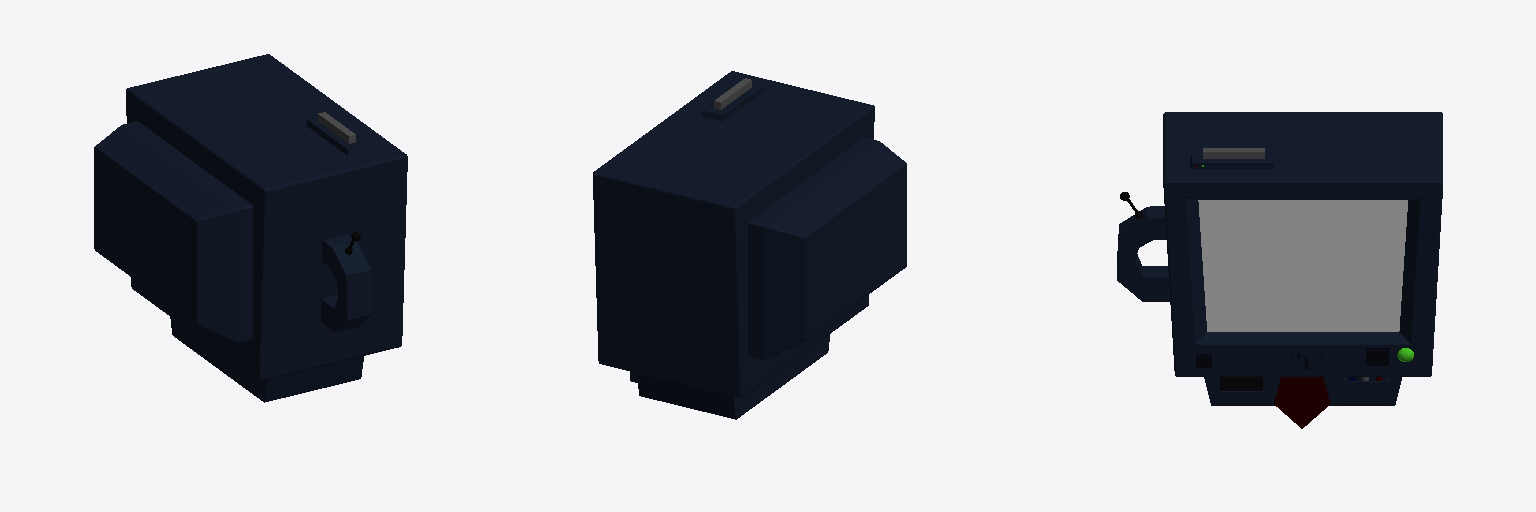
The model's file is assistant_bot.obj.
3 renders of one model, left to right at view 1: azimuth 30°, elevation 25°; view 2: azimuth 150°, elevation 25°; view 3: azimuth 270°, elevation 25°, orthographic.
Visible parts, largest first — view 1: Cube_Cube.001, Cube.009_Cube.011, Cube.003_Cube.004, Cube.001_Cube.002, Cube.002_Cube.003; view 2: Cube_Cube.001, Cube.009_Cube.011, Cube.003_Cube.004, Cube.002_Cube.003; view 3: Cube_Cube.001, Cube.001_Cube.002, Cube.008_Cube.010, Cube.003_Cube.004, Cube.002_Cube.003, Cube.006_Cube.008, Cube.007_Cube.009.
Part boxes in pixels (x1,y1,x2,y2): Cube_Cube.001: (126,54,407,380); Cube.009_Cube.011: (94,121,252,342); Cube.003_Cube.004: (170,317,363,402); Cube.001_Cube.002: (321,234,372,332); Cube.002_Cube.003: (306,112,369,156); Cube_Cube.001: (593,71,874,397); Cube.009_Cube.011: (748,137,906,359); Cube.003_Cube.004: (636,334,829,419); Cube.002_Cube.003: (702,78,764,121); Cube_Cube.001: (1163,112,1442,376); Cube.001_Cube.002: (1117,206,1169,301); Cube.008_Cube.010: (1274,377,1329,428); Cube.003_Cube.004: (1204,377,1401,405); Cube.002_Cube.003: (1190,148,1274,168); Cube.006_Cube.008: (1344,377,1389,401); Cube.007_Cube.009: (1215,377,1267,394).
Bounding box in the file's own units: 1.75 × 2.26 × 2.49.